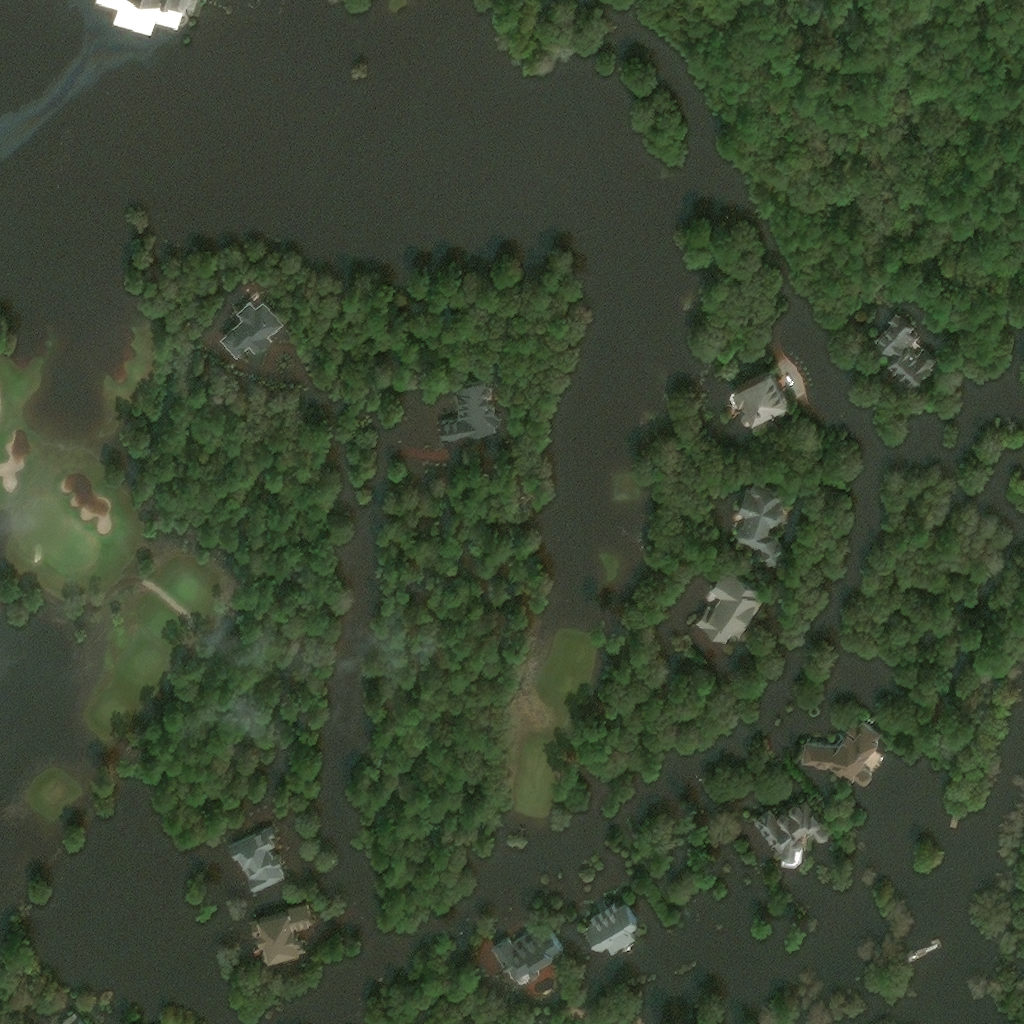major_damage: (799, 719, 880, 783), (868, 308, 932, 385), (693, 565, 757, 641), (490, 924, 563, 984), (749, 797, 824, 855), (734, 480, 784, 560), (227, 823, 284, 891), (434, 380, 500, 438), (250, 901, 314, 959), (219, 300, 281, 356), (725, 366, 782, 417), (581, 900, 637, 949), (103, 0, 170, 18), (60, 1011, 85, 1023)
